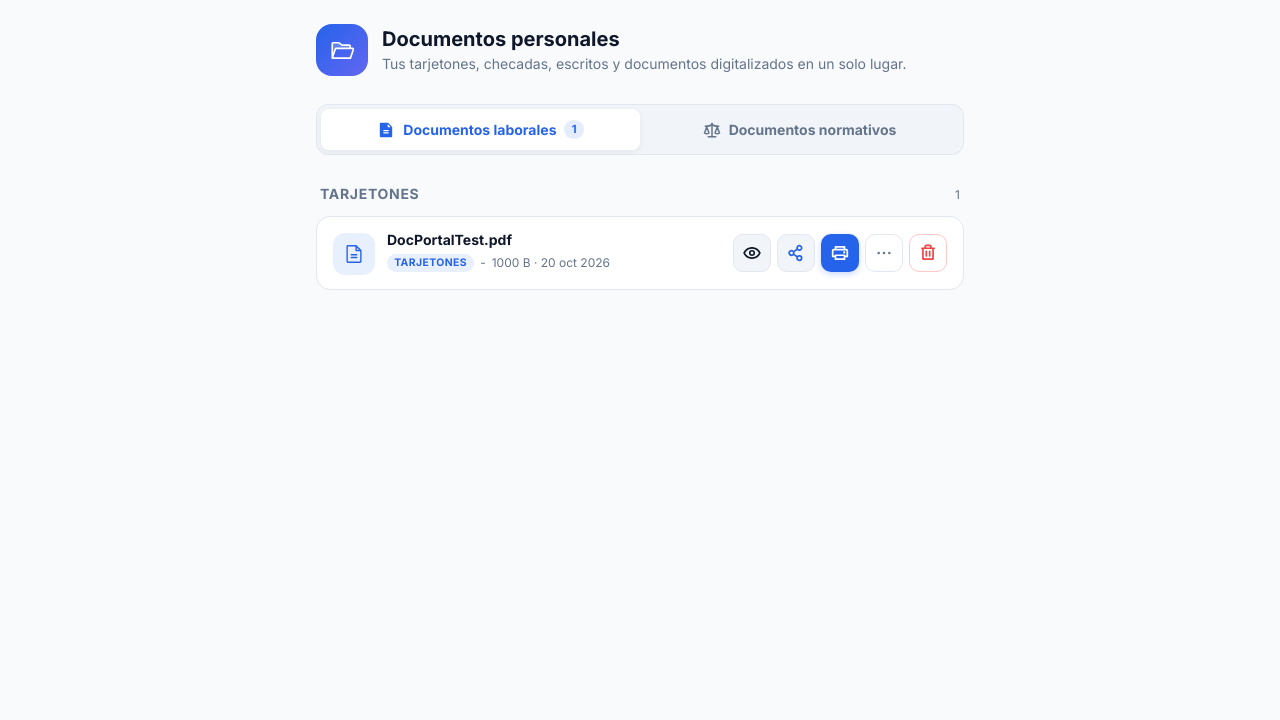
DocumentosPersonales (Integración con Escritos y Panel Inline) › renderiza el diálogo de confirmación en document.body (portal) e impide cancelar durante el borrado
This screenshot has width=1280, height=720.
Expected: the text "DocPortalTest.pdf" is shown, x1=387 y1=231 x2=512 y2=248
Click the button named "Eliminar documento".
click(928, 253)  # box x1=909 y1=234 x2=947 y2=272
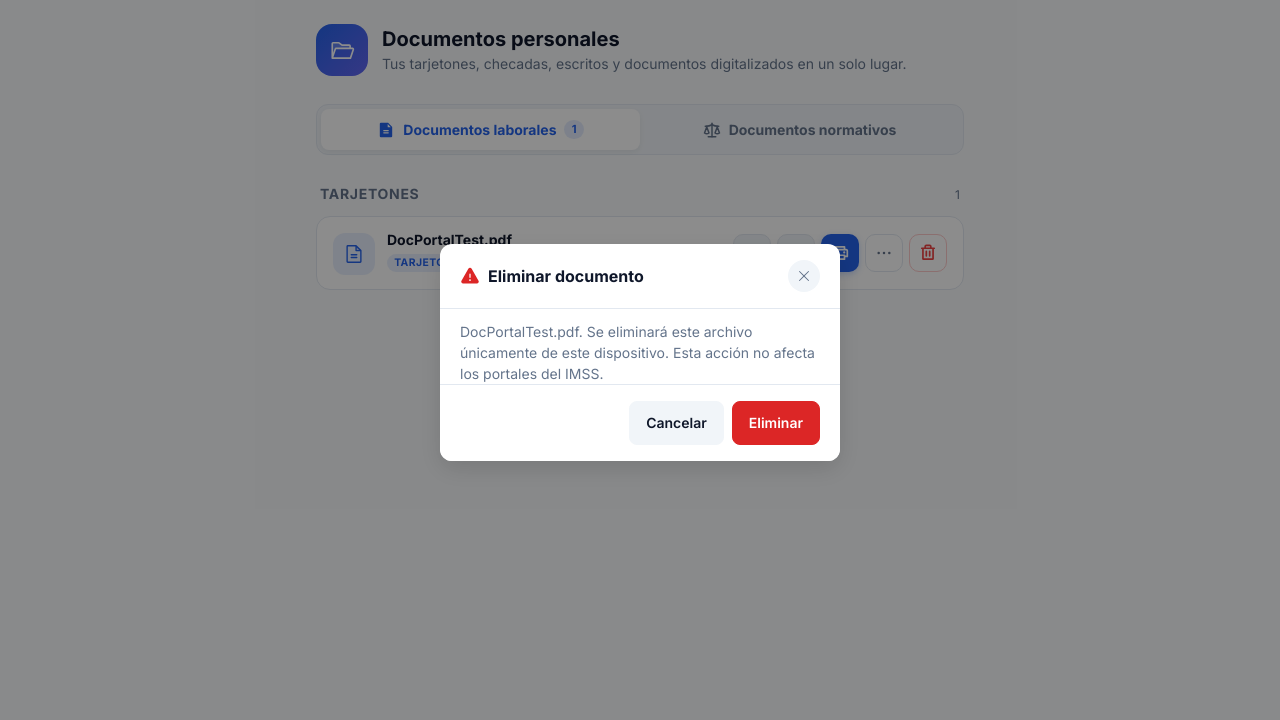
Expected: the dialog is shown, x1=440 y1=244 x2=840 y2=461
Click the button "Eliminar".
click(776, 423)  # box x1=732 y1=401 x2=820 y2=445
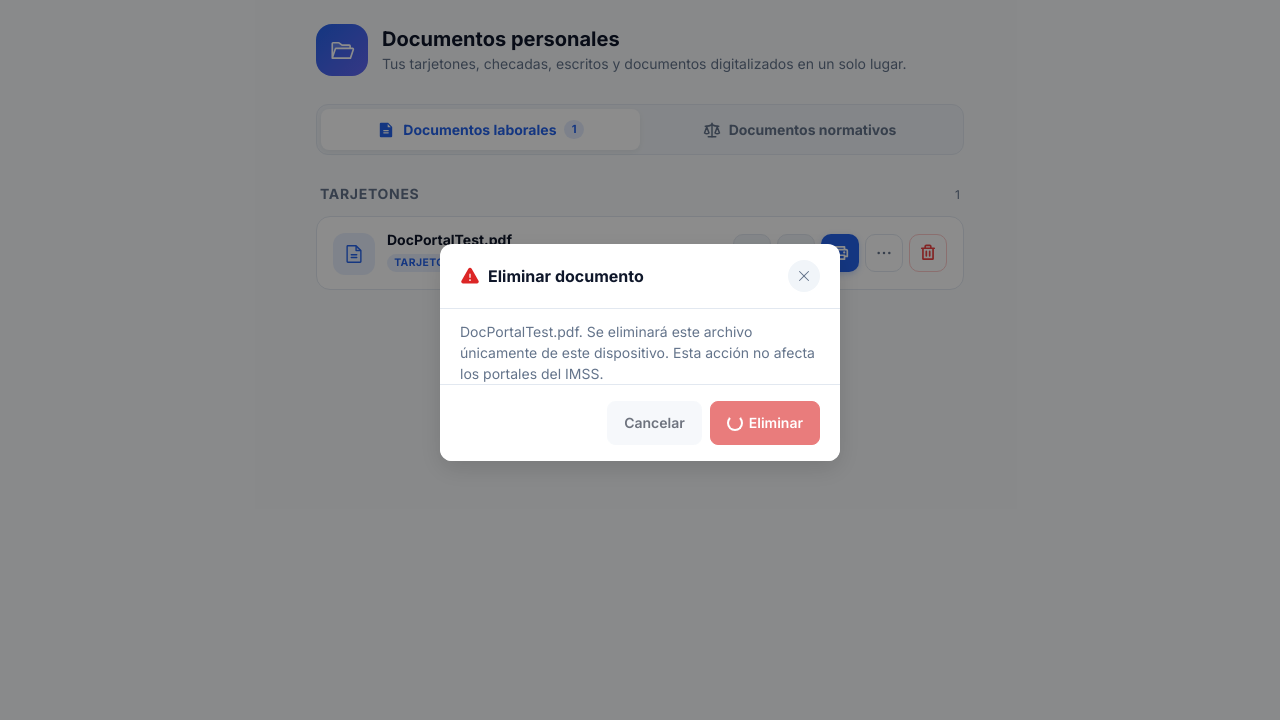
Mientras borra, no se puede cancelar por tecla Escape
Press Escape
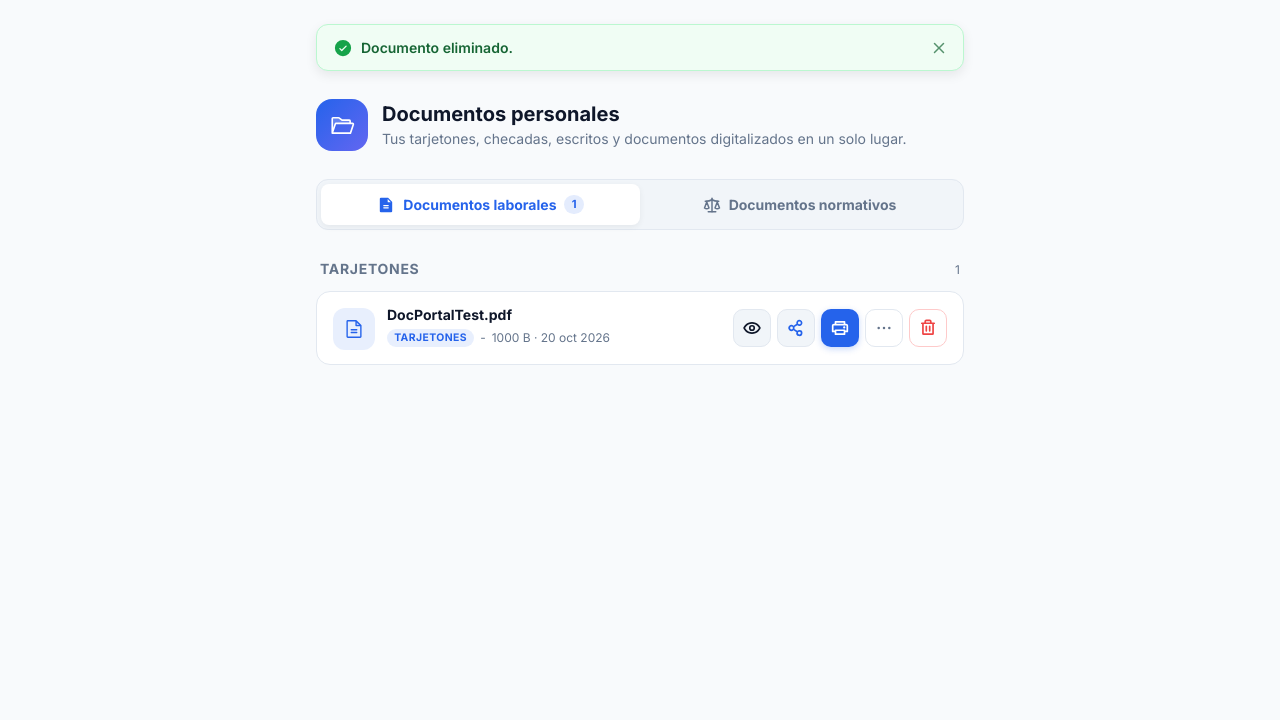
Expected: the dialog is gone
Expected: the text "Documento eliminado." is shown, x1=361 y1=37 x2=513 y2=58
